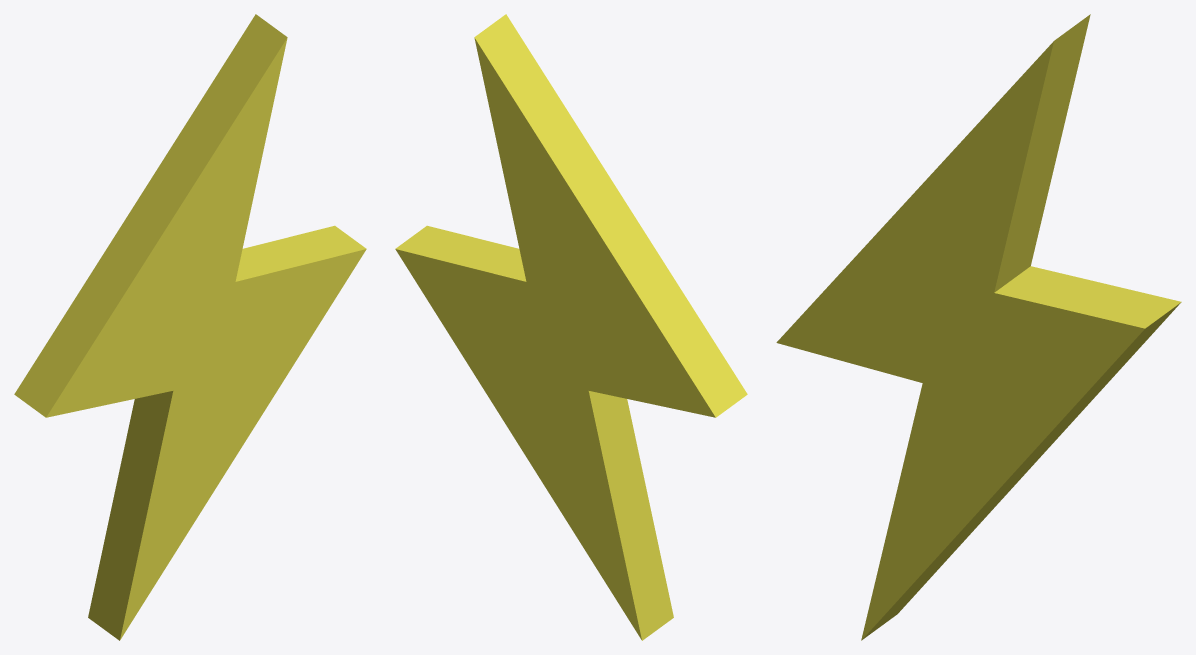
The model's file is spark.fbx.
The picture shows the model from 3 angles, left to right: view 1: azimuth 30°, elevation 25°; view 2: azimuth 150°, elevation 25°; view 3: azimuth 330°, elevation 25°; orthographic projection. The views are drawn at different scales.
Visible parts, largest first — view 1: spark; view 2: spark; view 3: spark.
Boxes of the visible parts, left/top/right/bottom form: spark: left=14, top=14, right=366, bottom=640; spark: left=395, top=14, right=747, bottom=640; spark: left=776, top=14, right=1181, bottom=640.
Size of the model in its own units: 94.44 by 158 by 16.24.
